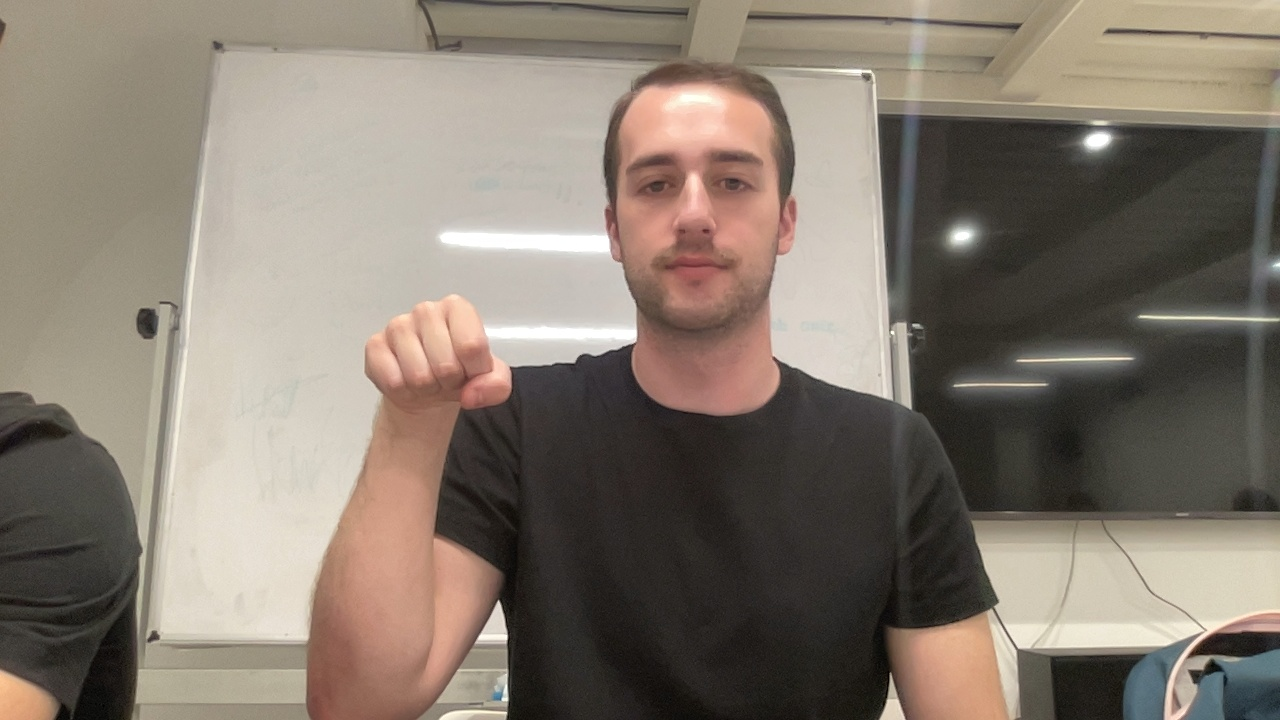Yes: (362, 287, 519, 459)
